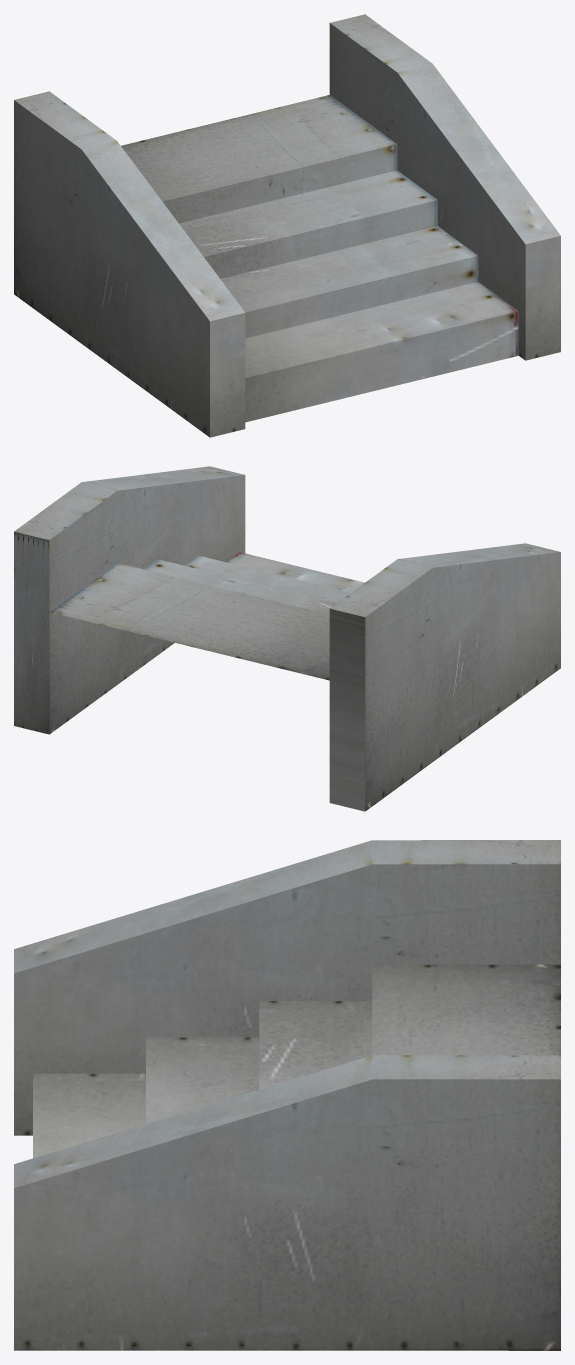
File: STB0110007.FBX
3 views of the same model, one above another, from view 1: azimuth 30°, elevation 25°; view 2: azimuth 150°, elevation 25°; view 3: azimuth 270°, elevation 25° (orthographic). The views are drawn at different scales.
Parts seen in each view (by area): view 1: smSTB0110007; view 2: smSTB0110007; view 3: smSTB0110007.
Boxes of the visible parts, x1,y1,x2,y2 form: smSTB0110007: (14,14,560,437); smSTB0110007: (14,466,560,811); smSTB0110007: (14,840,560,1350).
Size of what is drawn, in the model's own units: 1.7 by 0.8998 by 1.64.
Materials: 1 (1 with a texture image).
